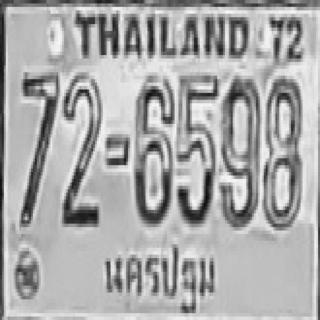N02: (61, 72, 102, 224)
N05: (175, 70, 218, 222)
N06: (133, 74, 174, 222)
N07: (19, 69, 58, 224)
N08: (262, 76, 301, 227)
N09: (219, 74, 260, 226)
P28: (99, 238, 217, 315)
